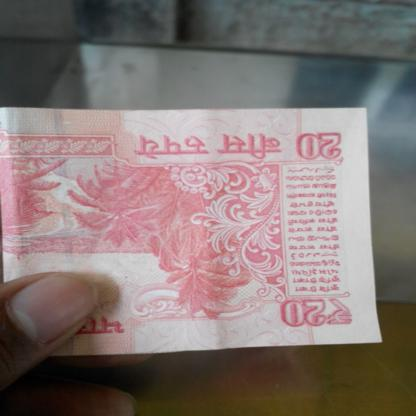Old20Back: (0, 108, 367, 347)
